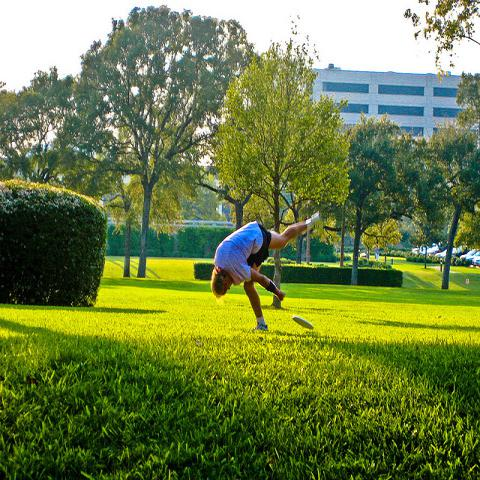car: (433, 246, 468, 258), (460, 250, 479, 264), (471, 250, 479, 268), (427, 244, 438, 255)
